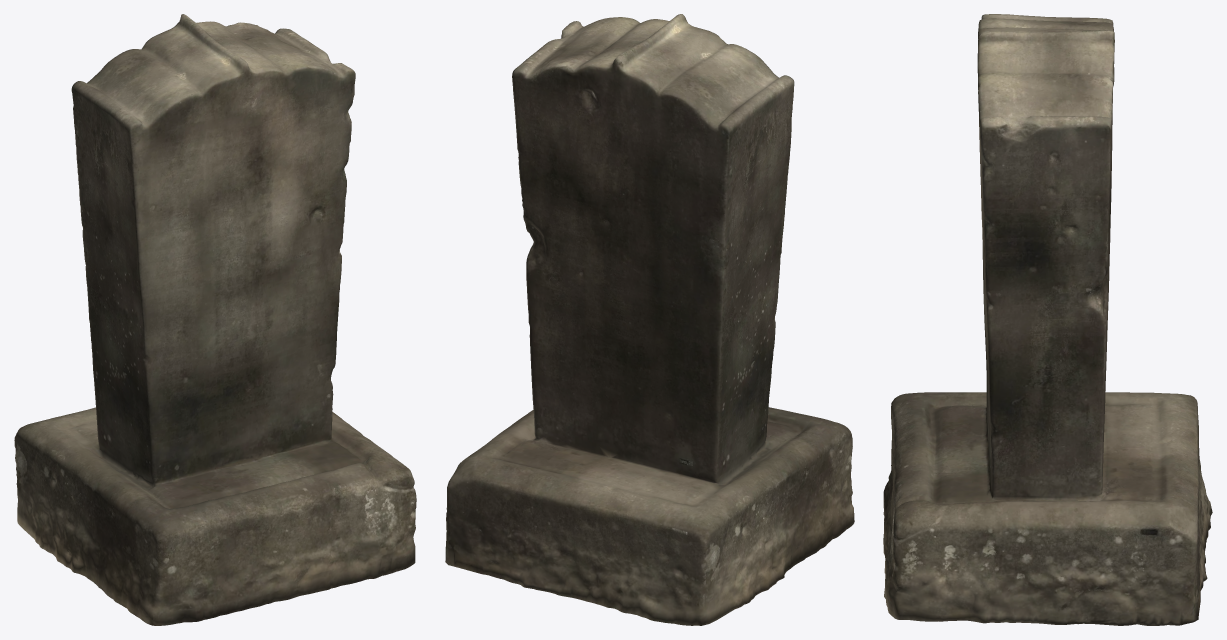
Rendered from MysonMuseum_biadatheki12-13-03msd318_final.glb.
The picture shows the model from 3 angles, left to right: view 1: azimuth 30°, elevation 25°; view 2: azimuth 150°, elevation 25°; view 3: azimuth 270°, elevation 25°; orthographic projection. The views are drawn at different scales.
Size of the model in its own units: 1.06 by 1.85 by 1.05.
1 material, 1 textured.
